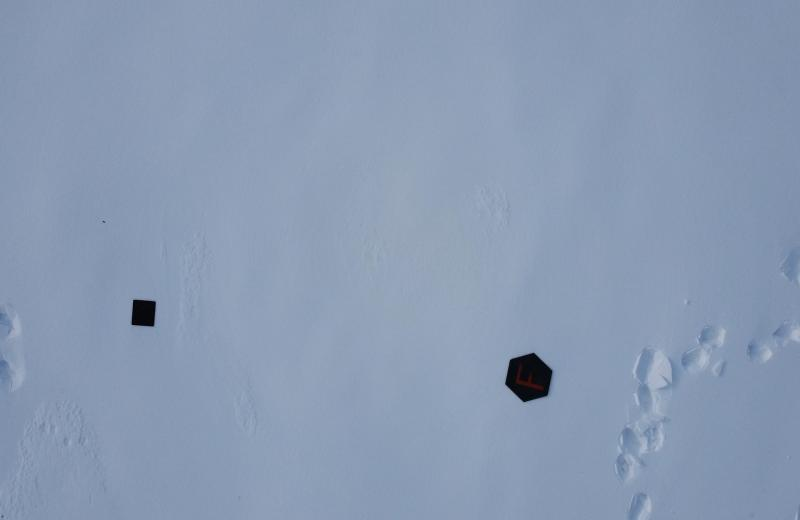Hexagon: (505, 353, 554, 404)
Square: (130, 298, 158, 328)
